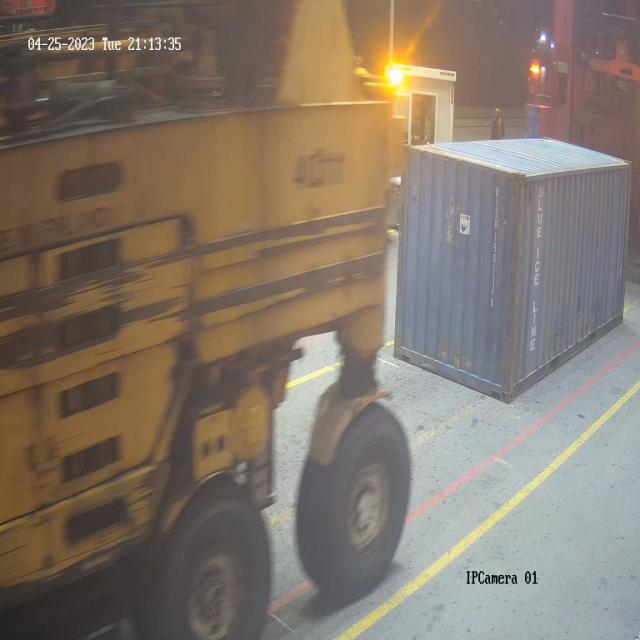dent: (540, 316, 581, 355)
